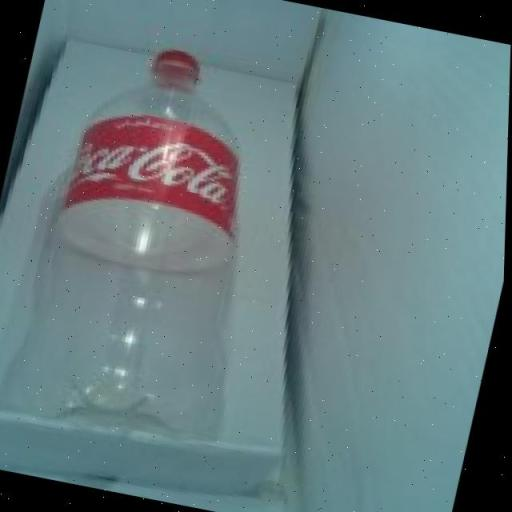plastic: (0, 34, 287, 452)
